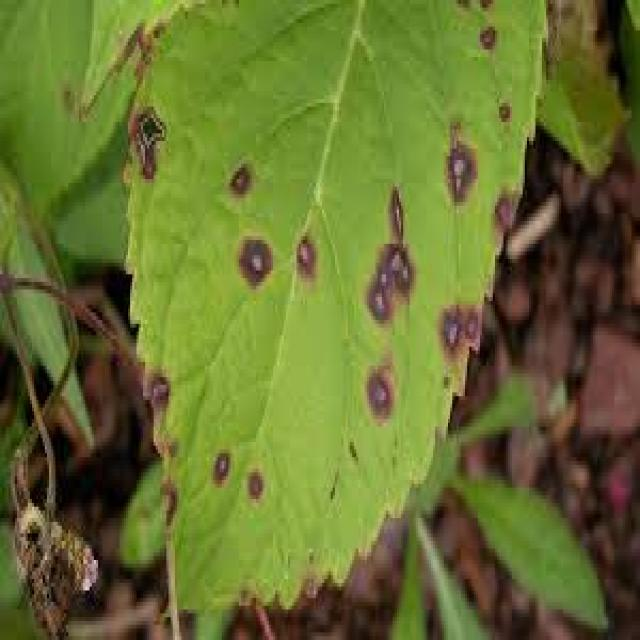bercak_daun: (193, 100, 483, 417)
